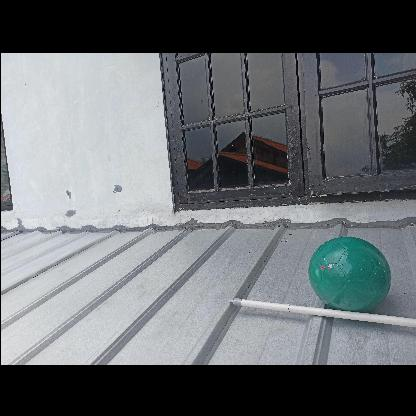green_ball: (307, 233, 389, 315)
